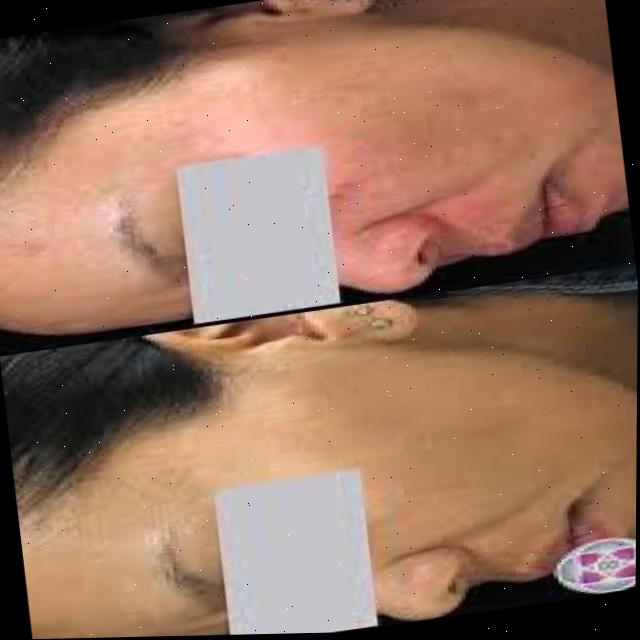Rosacea: (313, 118, 463, 230), (426, 184, 507, 264)
